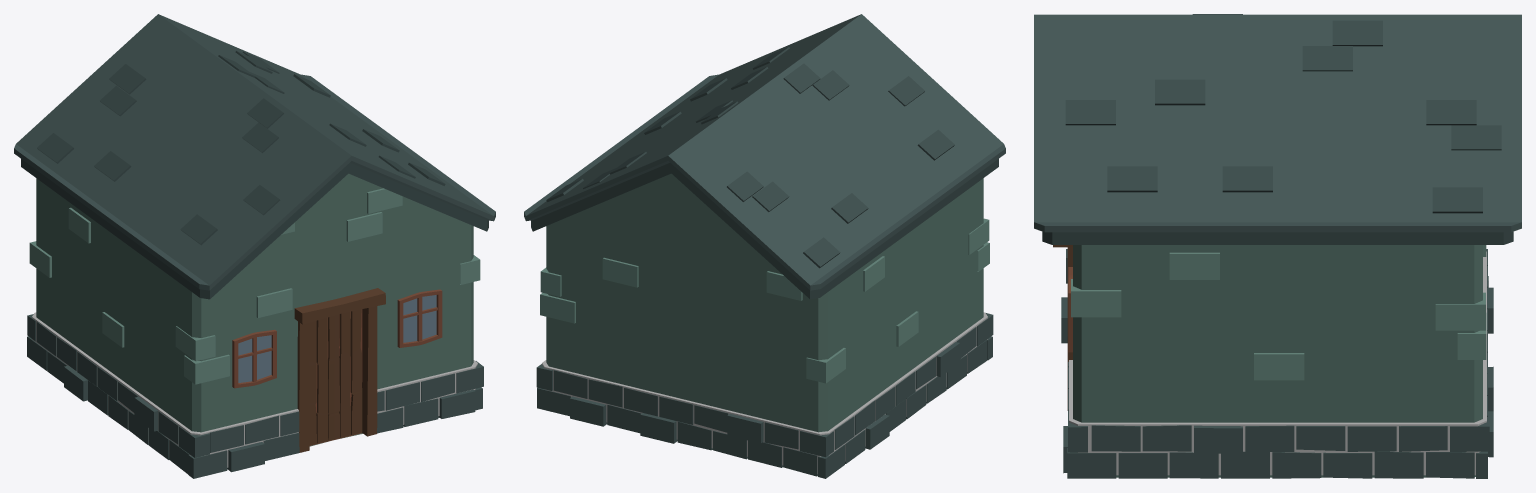
File: 1Story_GableRoof_Mat.gltf
The picture shows the model from 3 angles, left to right: view 1: azimuth 30°, elevation 25°; view 2: azimuth 150°, elevation 25°; view 3: azimuth 270°, elevation 25°; orthographic projection. The views are drawn at different scales.
Parts seen in each view (by area): view 1: o 1Story_GableRoof_Mat_Cube.042; view 2: o 1Story_GableRoof_Mat_Cube.042; view 3: o 1Story_GableRoof_Mat_Cube.042.
Part boxes in pixels (x1,y1,x2,y2): o 1Story_GableRoof_Mat_Cube.042: [14, 14, 495, 478]; o 1Story_GableRoof_Mat_Cube.042: [524, 14, 1005, 478]; o 1Story_GableRoof_Mat_Cube.042: [1034, 14, 1521, 478].
Bounding box in the file's own units: 2.11 × 2.02 × 2.38.
